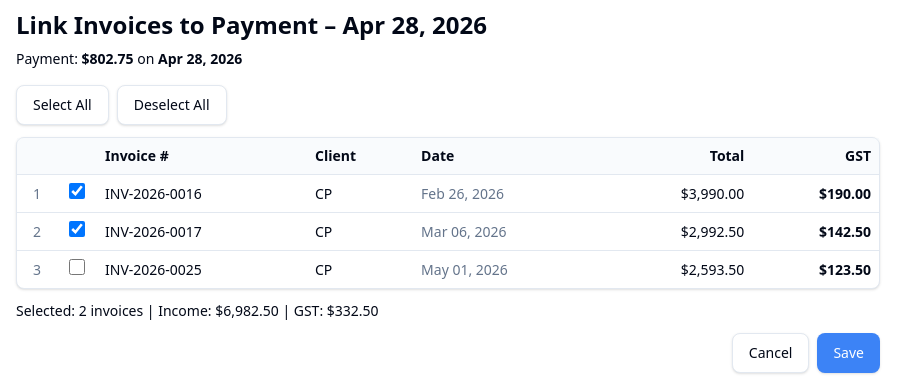
Test: LinkTaxInvoices dialog › shows the selected summary line and updates as you toggle
The width and height of the screenshot is (897, 391).
Expected: the checkbox named "Toggle INV-2026-0016" is shown, [69,183,85,199]
Expected: the text "Selected: 2 invoices | Income: $6,982.50 | GST: $332.50" is shown, [16,301,379,320]
# Tick the third one.
What coordinates should you click on to do the following:
click the checkbox named "Toggle INV-2026-0025"
I would click on:
 (77, 267)
Its box is [69,259,85,275].
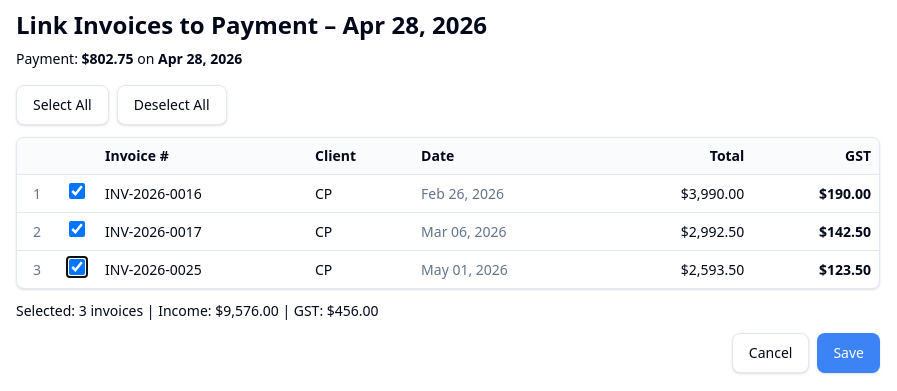
Now the text "Selected: 3 invoices | Income: $9,576.00 | GST: $456.00" is shown, box [16,301,379,320]
